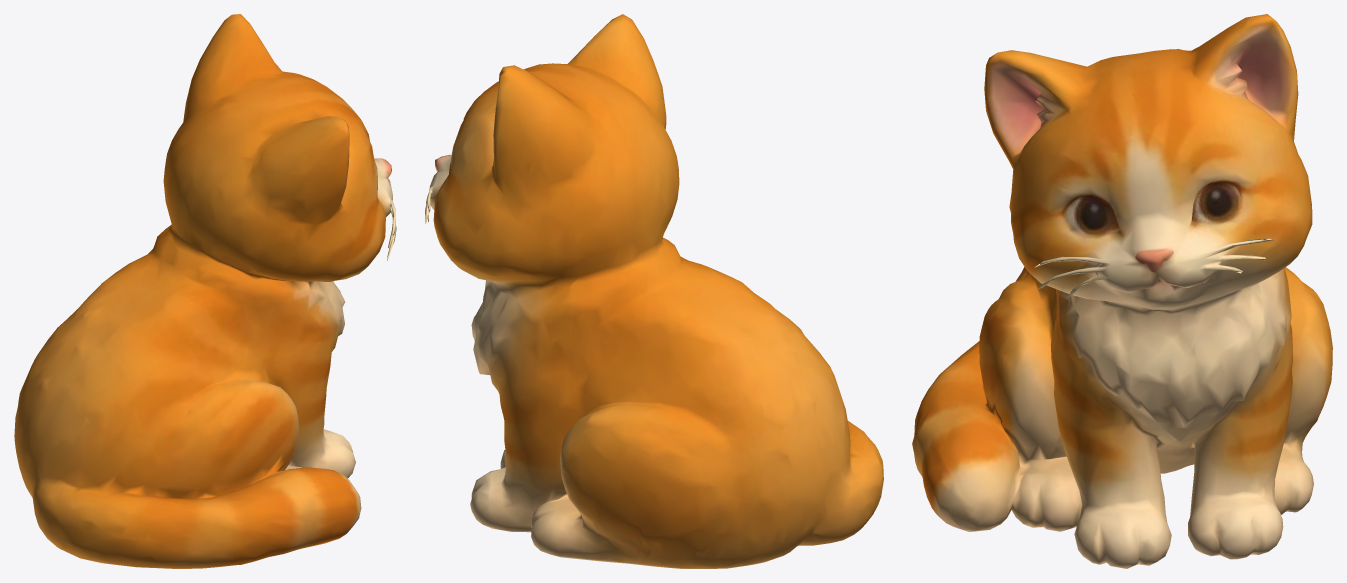
Rendered from kitten.glb.
3 renders of one model, left to right at view 1: azimuth 30°, elevation 25°; view 2: azimuth 150°, elevation 25°; view 3: azimuth 270°, elevation 25°, orthographic. The views are drawn at different scales.
Visible parts, largest first — view 1: tripo_node_ede3d0c7-7596-4630-9937-8eff925e5e79; view 2: tripo_node_ede3d0c7-7596-4630-9937-8eff925e5e79; view 3: tripo_node_ede3d0c7-7596-4630-9937-8eff925e5e79.
Part boxes in pixels (bbox=[...]): tripo_node_ede3d0c7-7596-4630-9937-8eff925e5e79: bbox=[14, 14, 396, 568]; tripo_node_ede3d0c7-7596-4630-9937-8eff925e5e79: bbox=[425, 14, 883, 568]; tripo_node_ede3d0c7-7596-4630-9937-8eff925e5e79: bbox=[912, 14, 1332, 568].
Size of the model in its own units: 0.9165 by 1 by 0.7287.
1 material, 1 textured.
